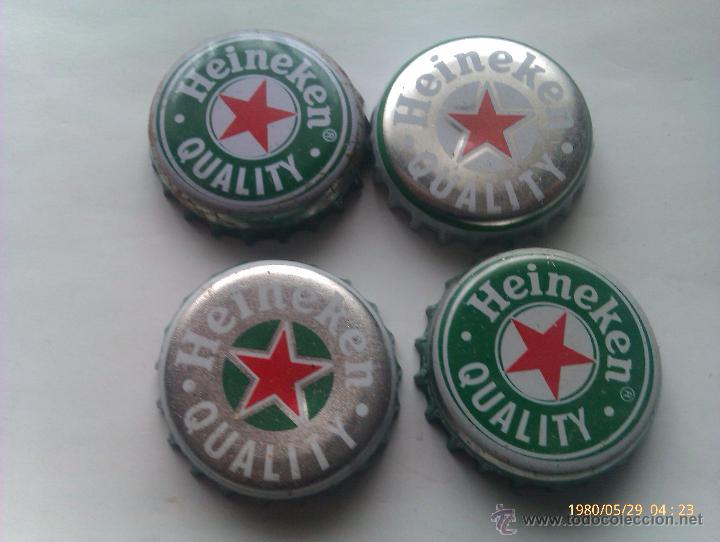heineken: (152, 254, 405, 512), (413, 245, 662, 492), (143, 26, 367, 244), (372, 28, 593, 242)
